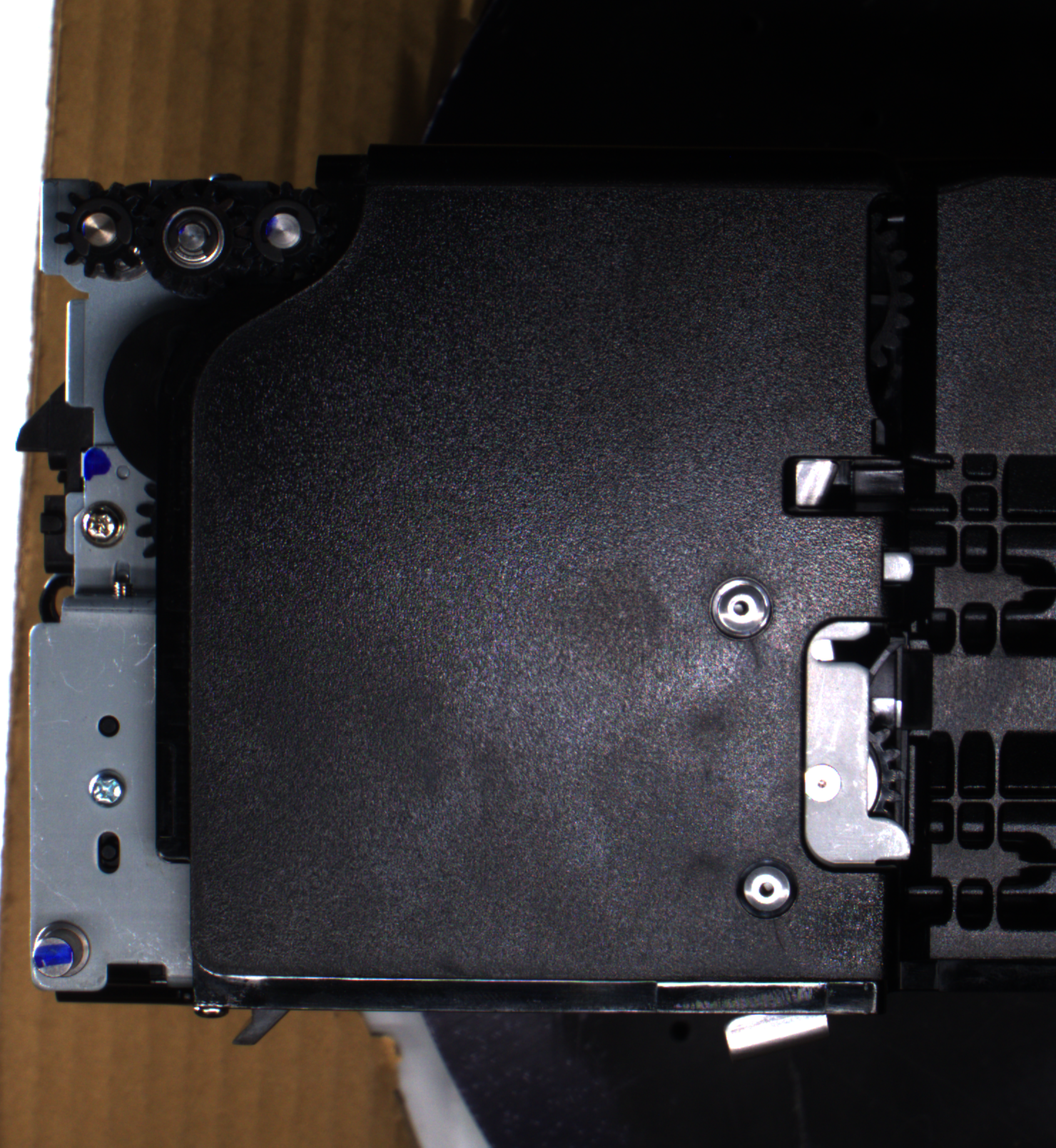centre_pin_presence: (716, 997, 836, 1064)
centre_plate_presence: (792, 612, 922, 878)
centre_screw_presence: (704, 570, 776, 647), (731, 851, 801, 925)
gear1_presence: (51, 178, 152, 283)
gear2_presence: (136, 179, 250, 299)
gear3_presence: (233, 180, 333, 284)
side_screw_presence: (75, 497, 130, 549), (83, 767, 128, 809)
slanting_pin_presence: (26, 917, 97, 988)
